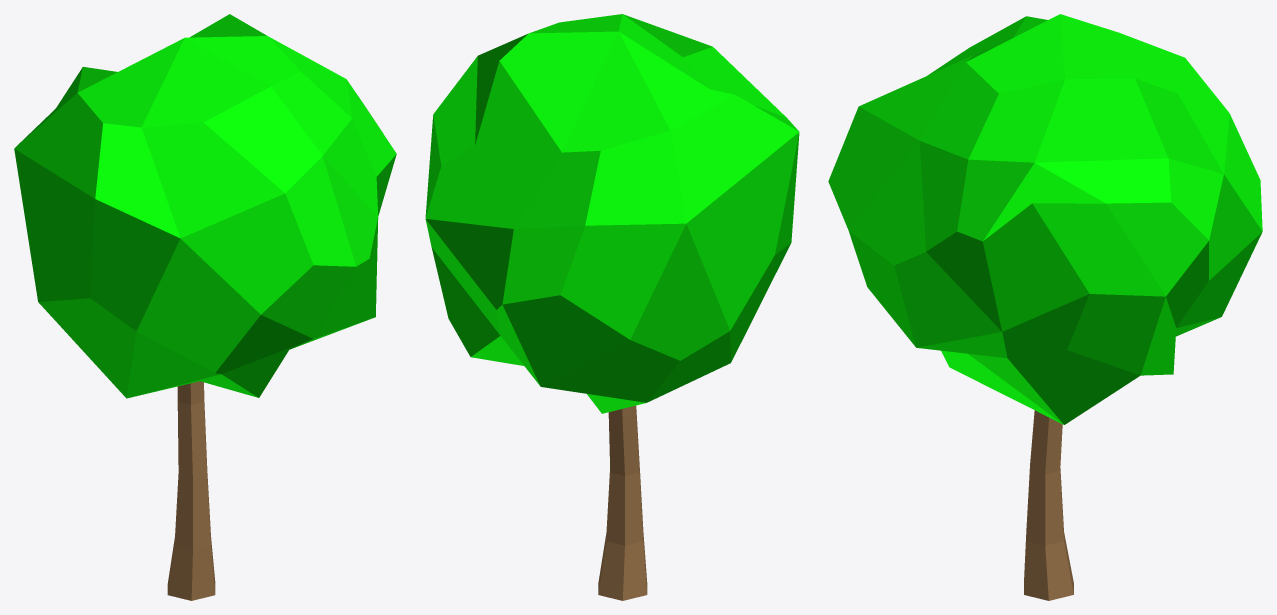
The model's file is SM_Tree_02.fbx.
3 renders of one model, left to right at view 1: azimuth 30°, elevation 25°; view 2: azimuth 150°, elevation 25°; view 3: azimuth 270°, elevation 25°, orthographic. The views are drawn at different scales.
Parts seen in each view (by area): view 1: Tree_02; view 2: Tree_02; view 3: Tree_02.
Boxes of the visible parts, <box> form: Tree_02: <box>14,14,396,600</box>; Tree_02: <box>425,14,799,600</box>; Tree_02: <box>828,14,1262,600</box>.
Bounding box in the file's own units: 997 × 1696 × 1163.
